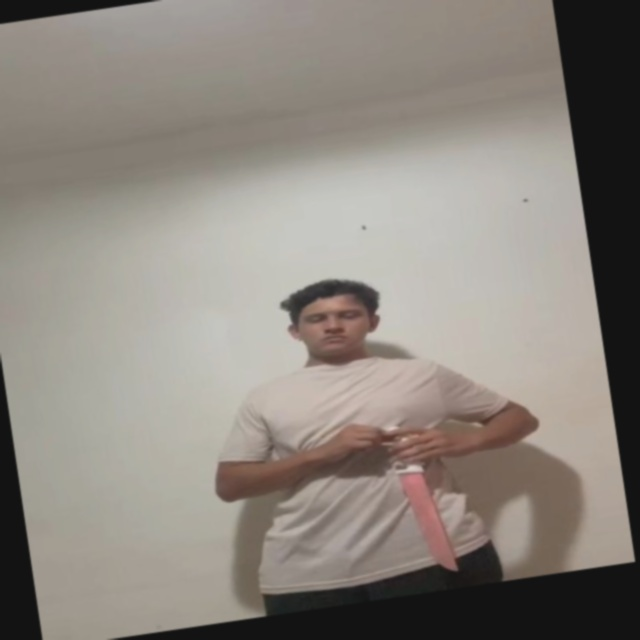Sharp-Object: (398, 463, 462, 574)
